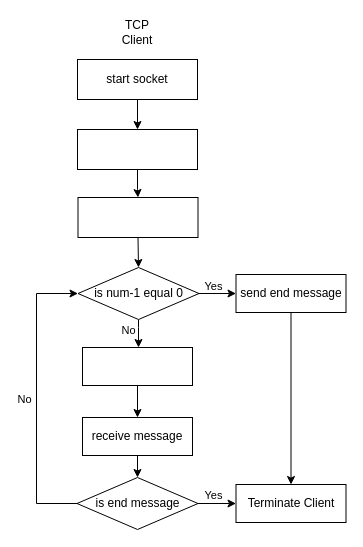
The diagram is 363 pixels wide and 547 high, and some of its shapes have lost their labels. Here are the shapes that lost their labels. From the top down, the centre of each, then its label:
At point 137,149: "connected".
At point 137,217: "Input num".
At point 137,366: "send num-1".
